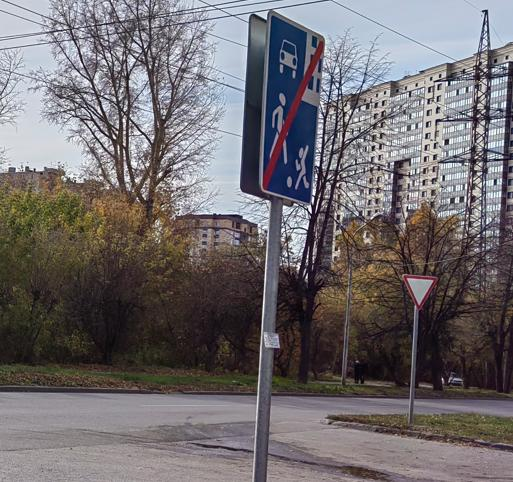road_sign: (260, 9, 324, 206), (403, 276, 438, 309)
